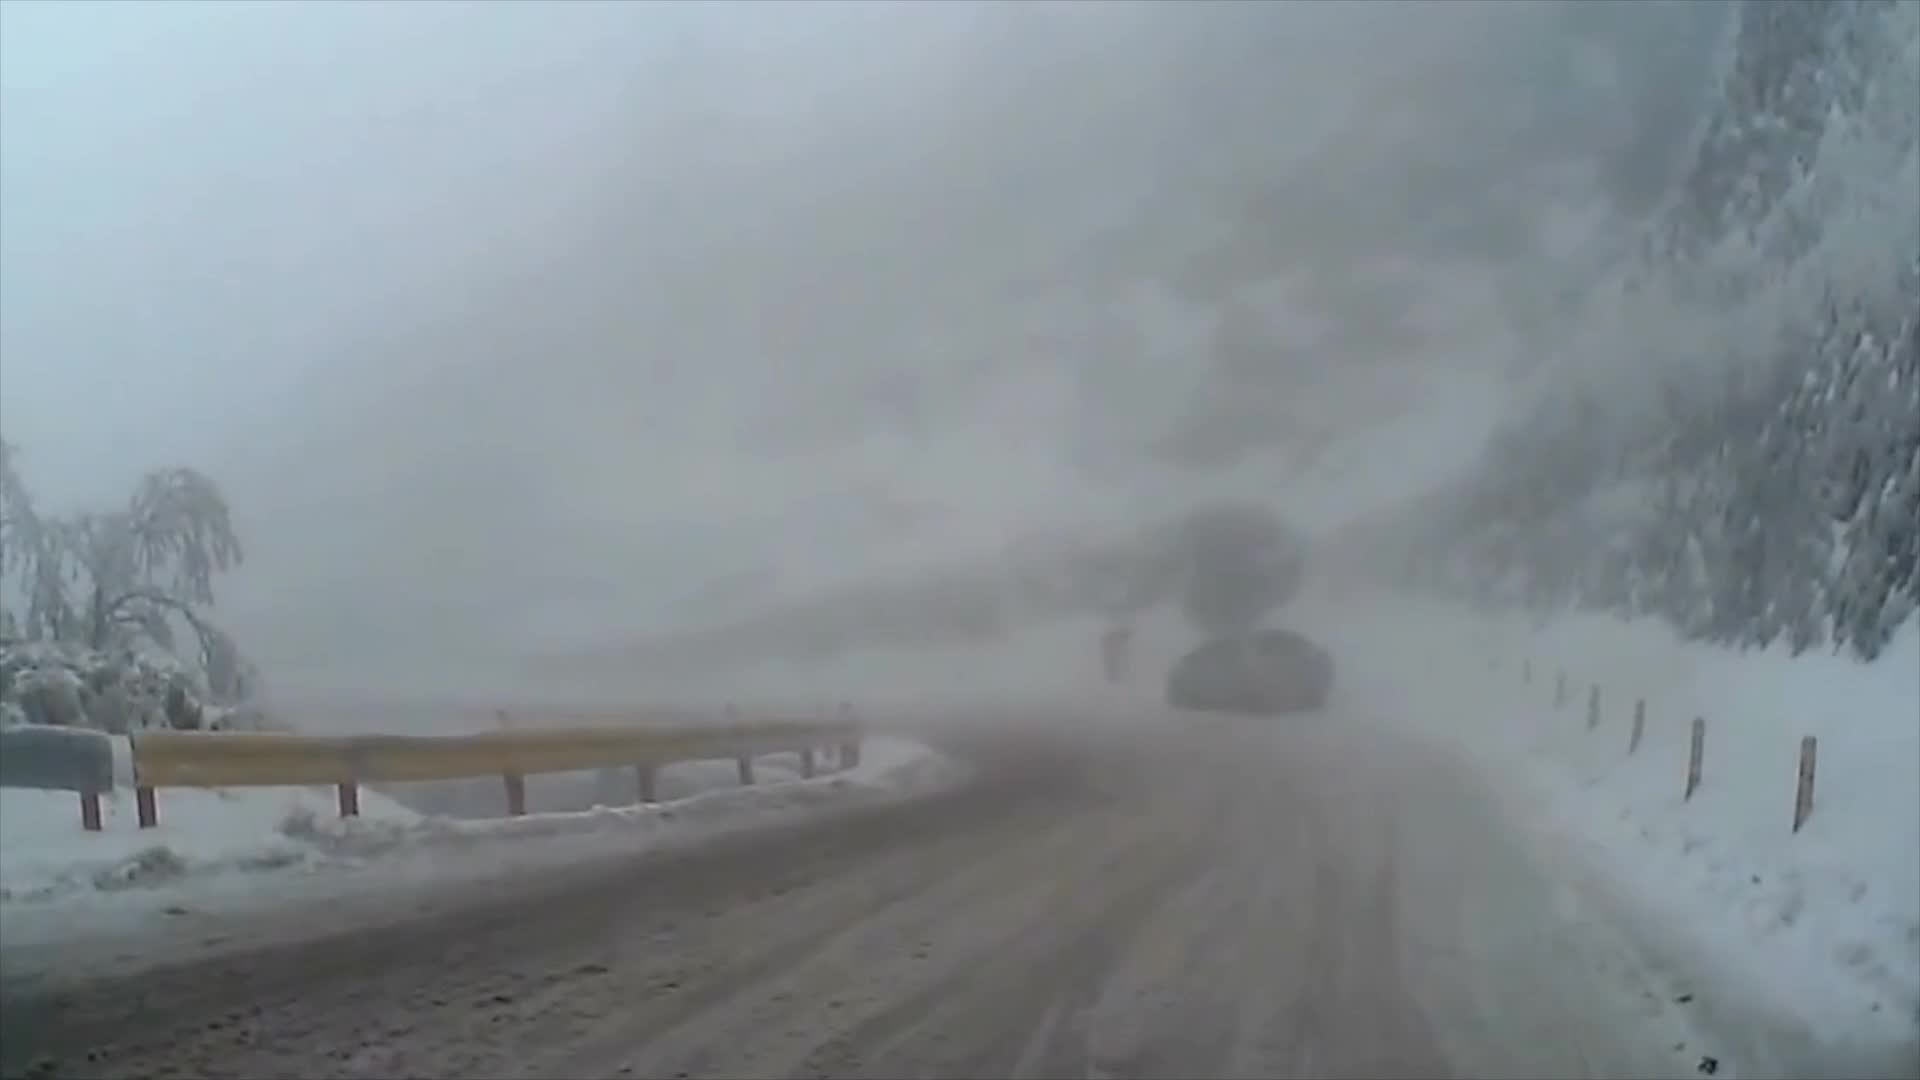vehicle: (1166, 630, 1333, 715)
